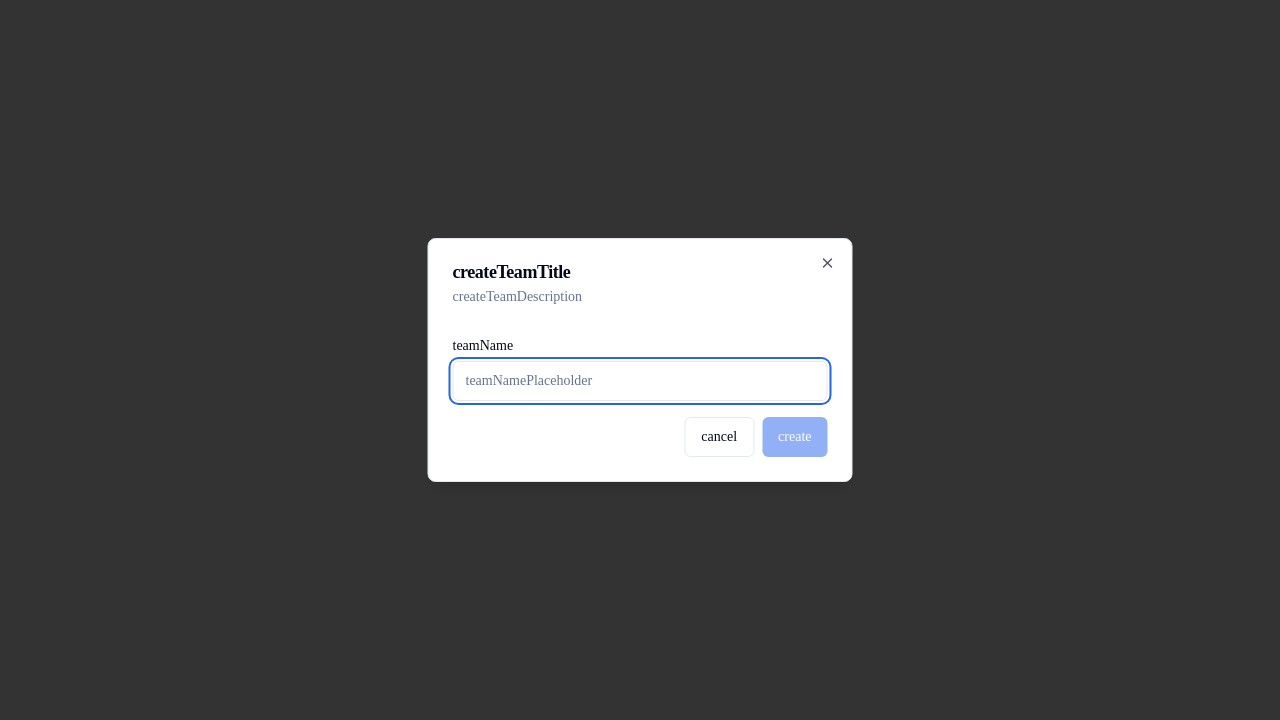
Test: CreateTeamDialog › Form Submission › should show error message on API failure
Type "Existing Team" into the field labelled "teamName". click: (640, 381)
box: [452, 361, 828, 401]
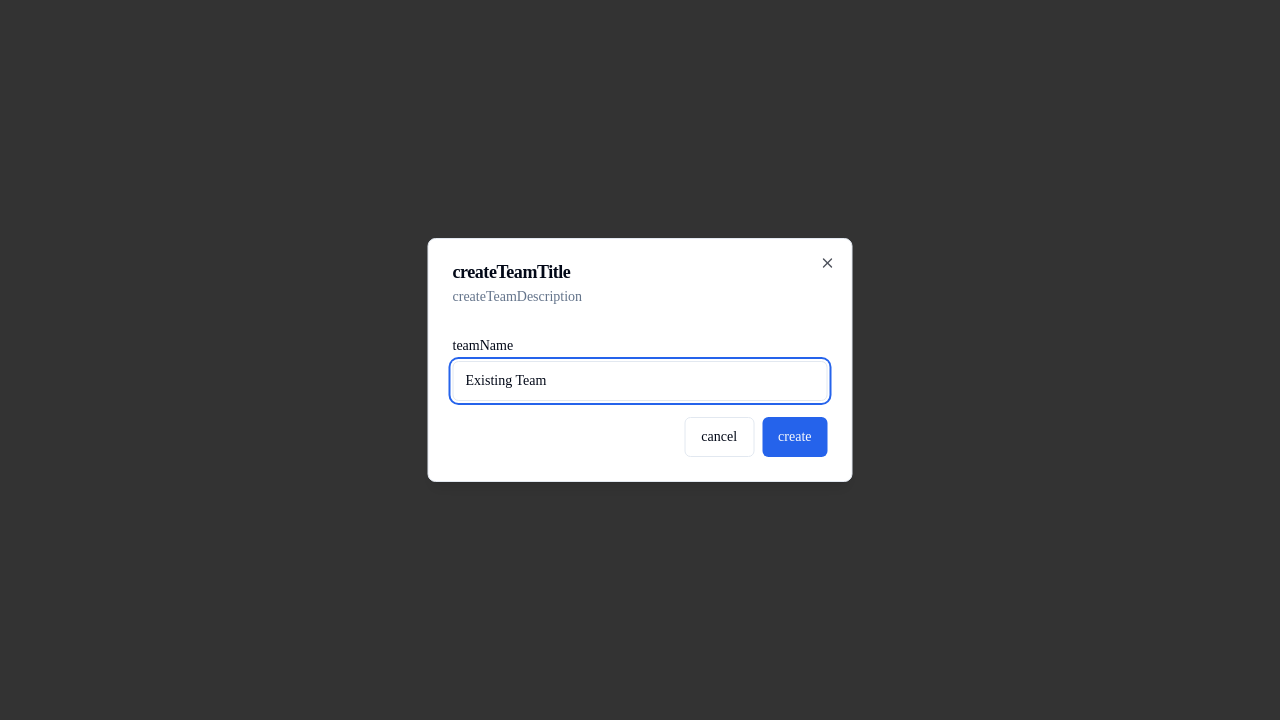
Click the button "create". click: (795, 437)
box: [762, 417, 828, 457]
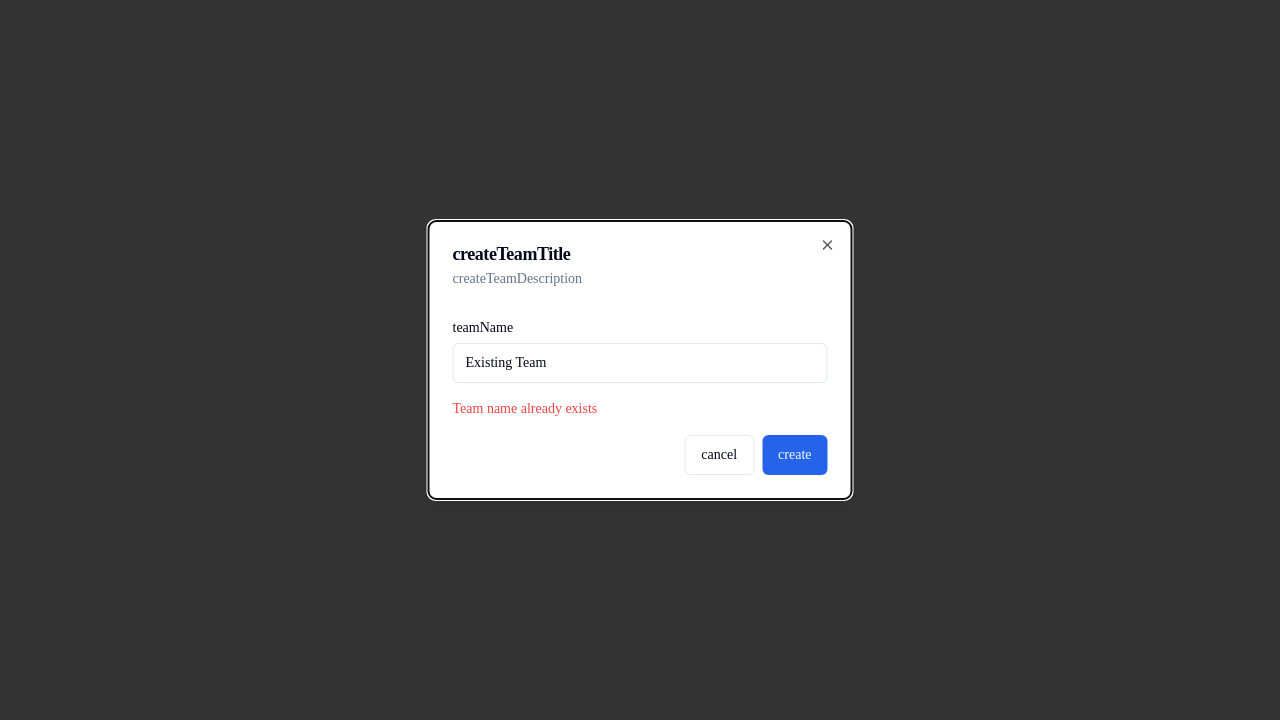
Result: the text "Team name already exists" is shown at [452, 401, 597, 416]
